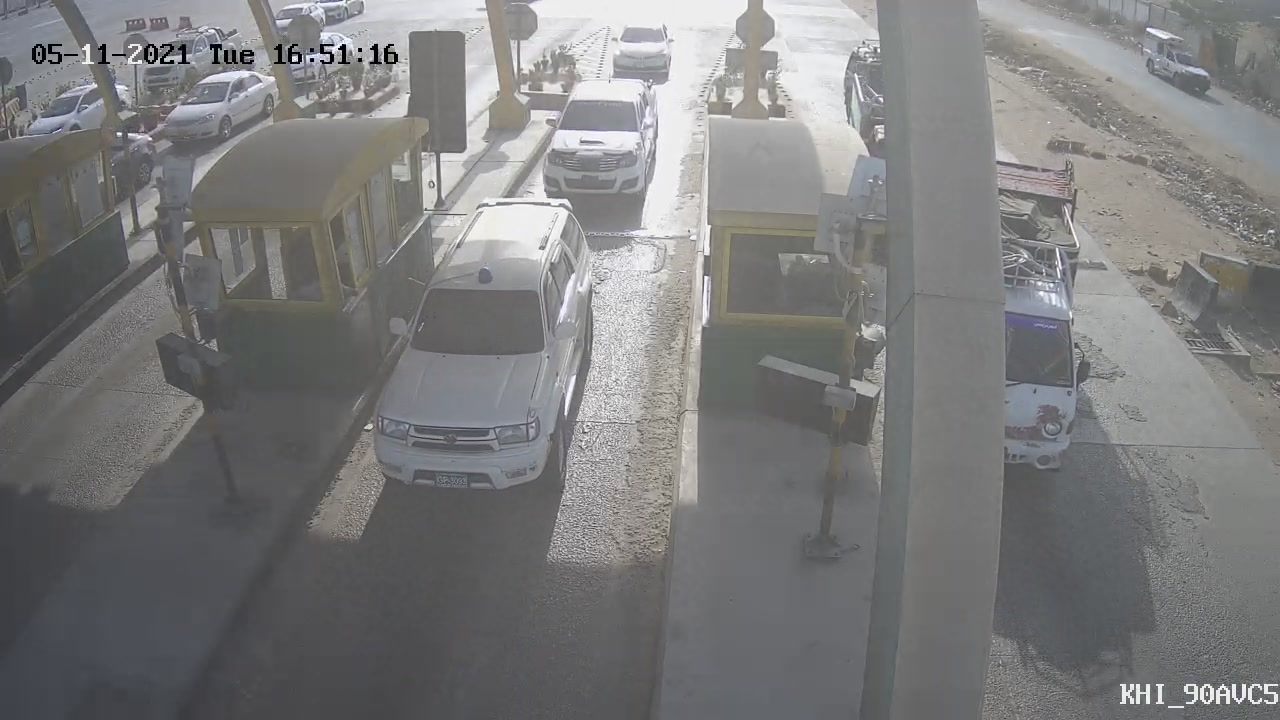F1: (335, 187, 618, 521), (526, 62, 679, 220)
